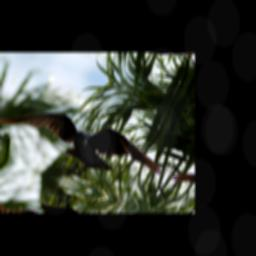Crow: (0, 89, 174, 200)
